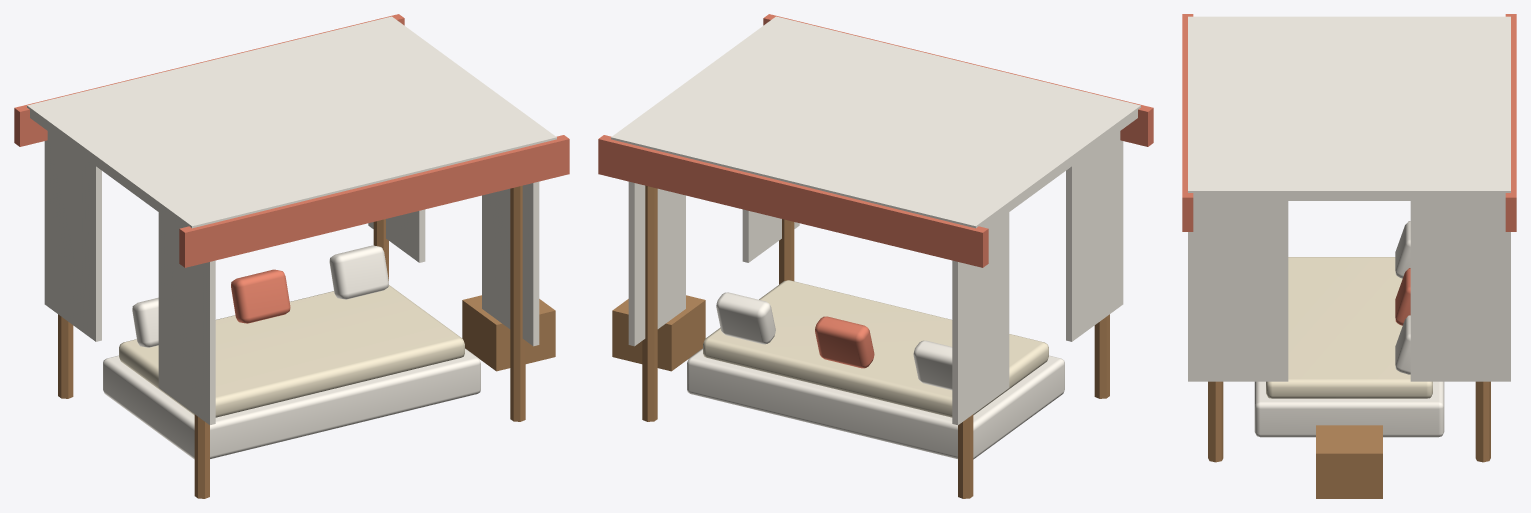
File: cabana.glb
The picture shows the model from 3 angles, left to right: view 1: azimuth 30°, elevation 25°; view 2: azimuth 150°, elevation 25°; view 3: azimuth 270°, elevation 25°; orthographic projection. The views are drawn at different scales.
Parts seen in each view (by area): view 1: cabana; view 2: cabana; view 3: cabana.
Part boxes in pixels (x1,y1,x2,y2): cabana: (14, 14, 569, 498); cabana: (598, 14, 1153, 498); cabana: (1182, 14, 1516, 498).
Bounding box in the file's own units: 4.45 × 2.77 × 3.
